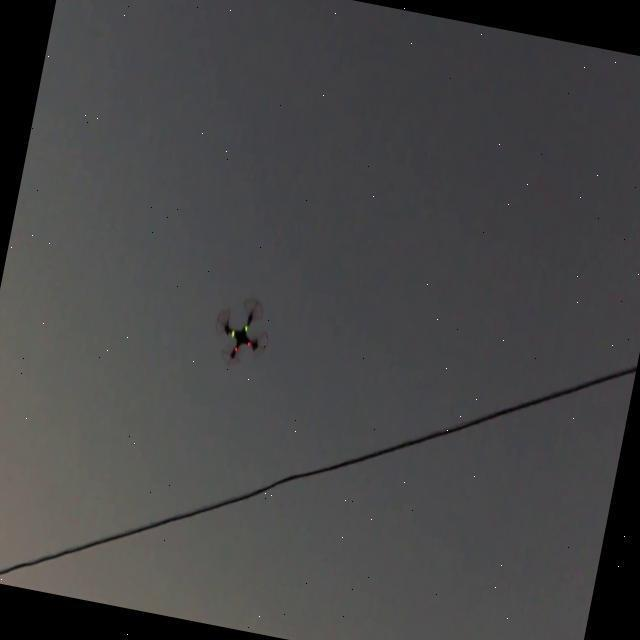Drons: (205, 290, 277, 374)
